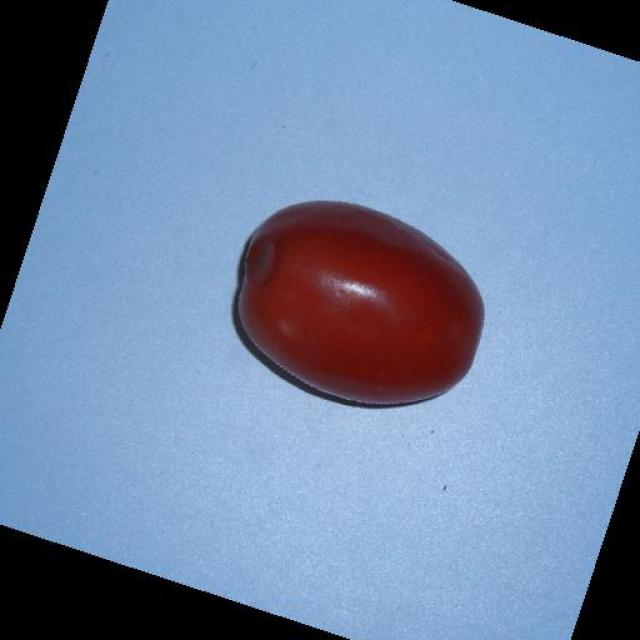Stale_tomato: (212, 218, 482, 416)
